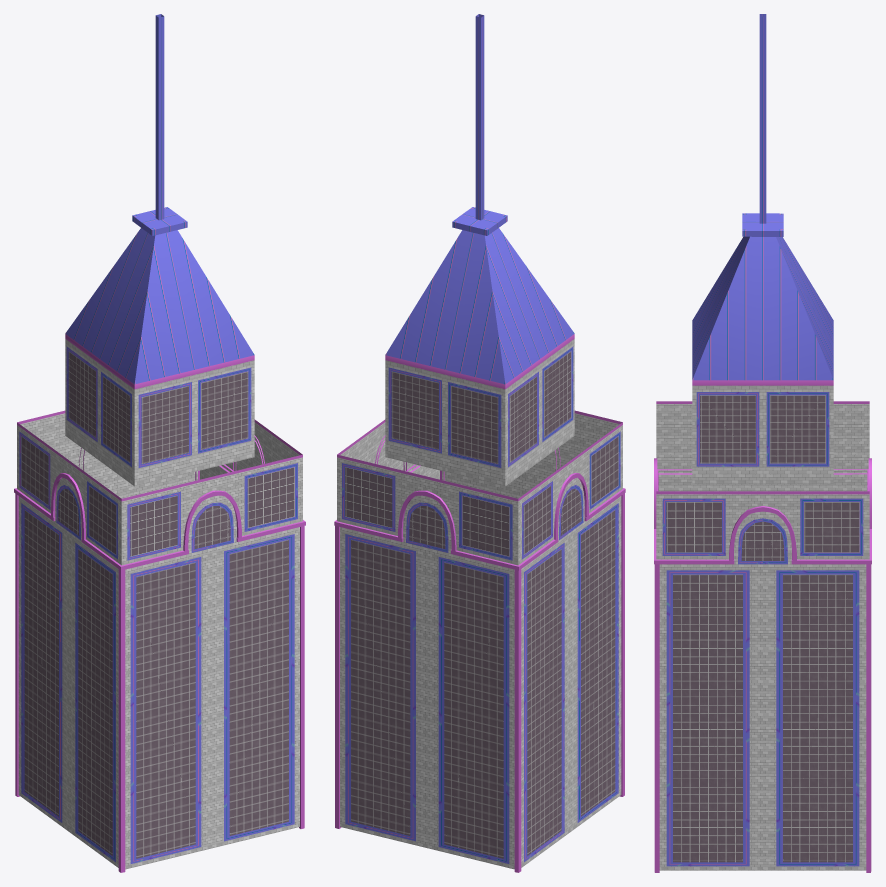
Rendered from SM_Building_03.fbx.
3 views of the same model, side by side, from view 1: azimuth 30°, elevation 25°; view 2: azimuth 150°, elevation 25°; view 3: azimuth 270°, elevation 25° (orthographic).
Visible parts, largest first — view 1: SM_Building_03; view 2: SM_Building_03; view 3: SM_Building_03.
Boxes of the visible parts, x1,y1,x2,y2 form: SM_Building_03: (14, 14, 305, 872); SM_Building_03: (334, 14, 625, 872); SM_Building_03: (654, 14, 871, 872).
Size of the model in its own units: 1497 by 1497 by 6156.
